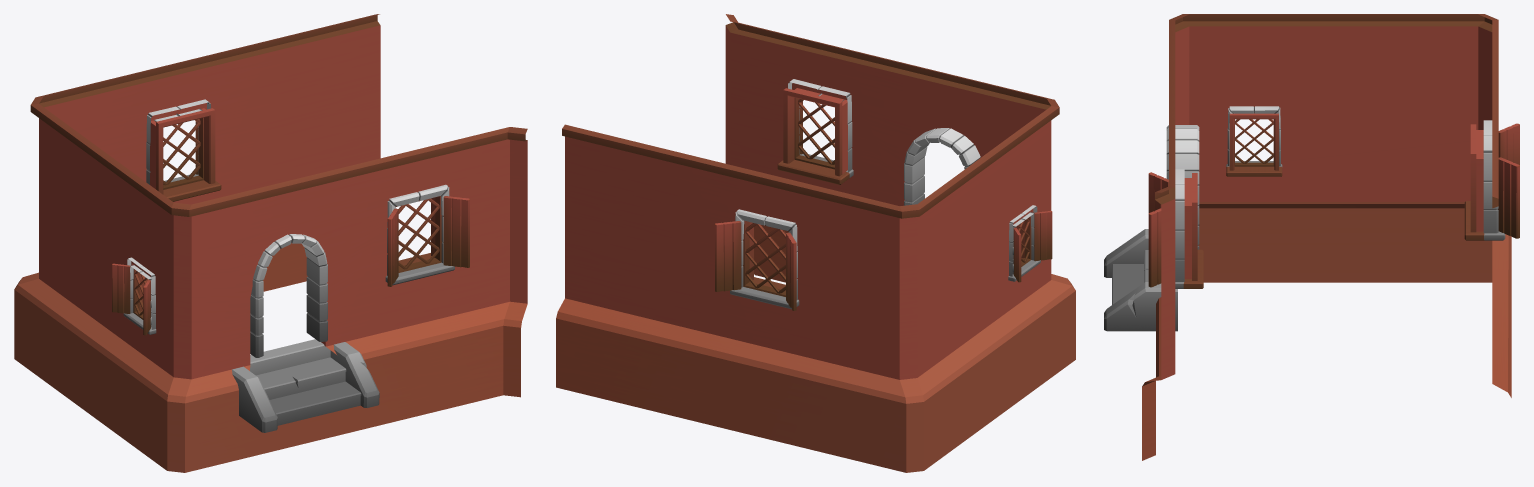
File: Firing_House.fbx
3 views of the same model, side by side, from view 1: azimuth 30°, elevation 25°; view 2: azimuth 150°, elevation 25°; view 3: azimuth 270°, elevation 25° (orthographic). The views are drawn at different scales.
Visible parts, largest first — view 1: House1_Exteriour.001; view 2: House1_Exteriour.001; view 3: House1_Exteriour.001.
Boxes of the visible parts, <box> form: House1_Exteriour.001: <box>14,14,527,472</box>; House1_Exteriour.001: <box>556,14,1075,472</box>; House1_Exteriour.001: <box>1104,14,1519,460</box>.
Size of the model in its own units: 262 by 178 by 242.
